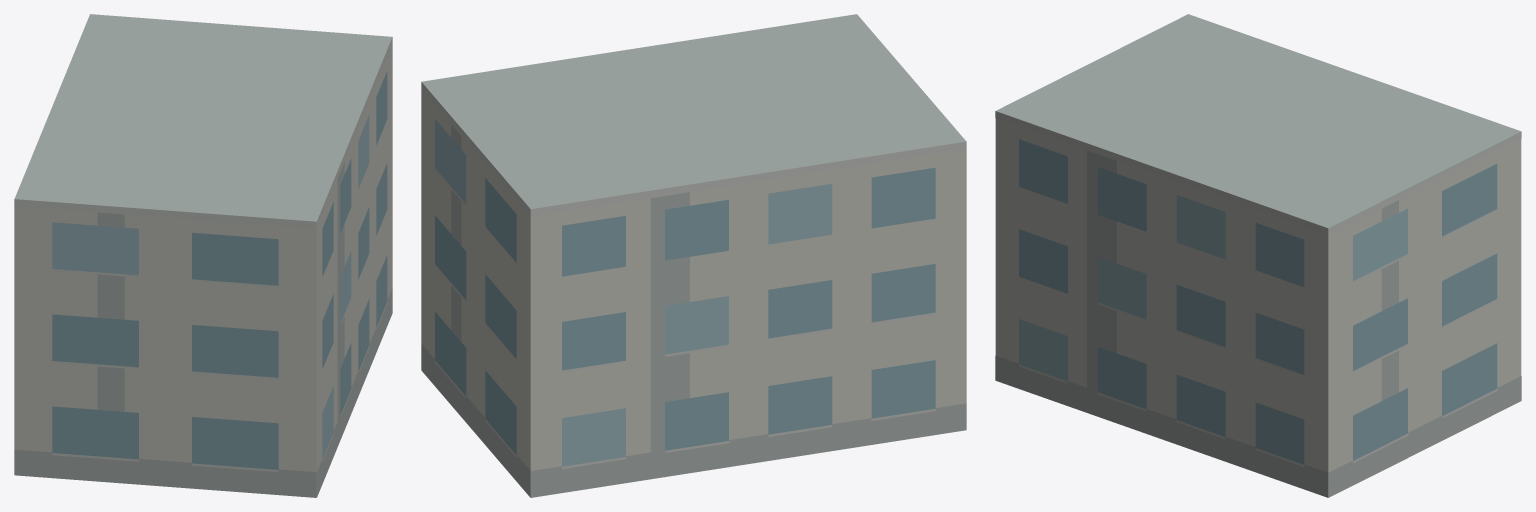
File: survey-upis-32666093.glb
3 renders of one model, left to right at view 1: azimuth 30°, elevation 25°; view 2: azimuth 150°, elevation 25°; view 3: azimuth 270°, elevation 25°, orthographic. The views are drawn at different scales.
Parts seen in each view (by area): view 1: survey-upis-32666093.tmp; view 2: survey-upis-32666093.tmp; view 3: survey-upis-32666093.tmp.
Part boxes in pixels (bbox=[...]): survey-upis-32666093.tmp: bbox=[14, 14, 392, 497]; survey-upis-32666093.tmp: bbox=[421, 14, 966, 497]; survey-upis-32666093.tmp: bbox=[995, 14, 1521, 497].
Bounding box in the file's own units: 15.61 × 9.15 × 16.19.
